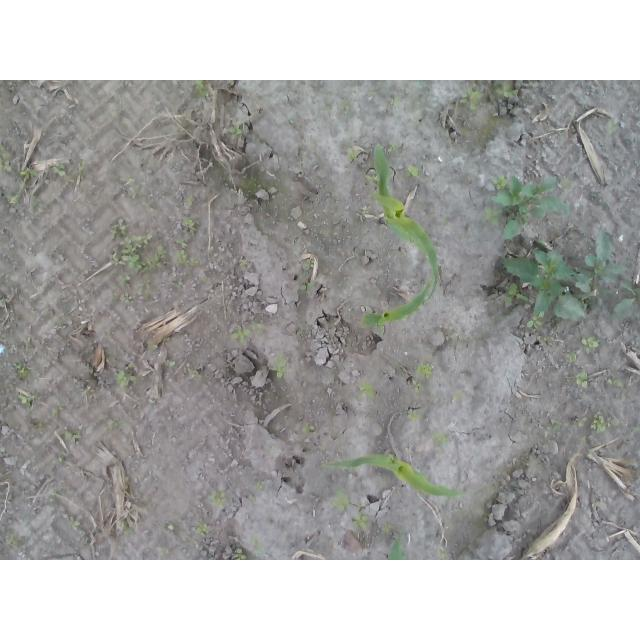Maize: (373, 143, 440, 301), (319, 452, 466, 496), (361, 281, 432, 330), (387, 528, 409, 560)
Weeds: (500, 233, 640, 330), (484, 173, 569, 240), (111, 222, 168, 273), (233, 320, 264, 344), (460, 84, 483, 113), (175, 248, 205, 267), (591, 412, 616, 433), (330, 489, 352, 512), (494, 80, 518, 98), (0, 144, 14, 173), (273, 353, 288, 380), (114, 370, 137, 387), (580, 335, 601, 353), (181, 216, 203, 233), (207, 489, 226, 508), (415, 359, 433, 378), (404, 160, 424, 177), (432, 431, 449, 449), (15, 361, 31, 380), (192, 80, 209, 97), (354, 513, 371, 530), (359, 384, 375, 401), (605, 117, 619, 135), (252, 537, 265, 556), (576, 368, 588, 388), (231, 548, 249, 561), (118, 521, 134, 535), (411, 378, 425, 394), (17, 393, 32, 407), (64, 430, 81, 442), (5, 535, 23, 546), (67, 515, 81, 529), (120, 272, 131, 289), (51, 164, 66, 176), (607, 377, 625, 387), (19, 168, 38, 177), (340, 97, 351, 112), (112, 418, 127, 429), (228, 127, 244, 137), (347, 144, 357, 160), (4, 194, 18, 205), (437, 546, 448, 560), (51, 405, 63, 417), (195, 521, 207, 533), (363, 173, 377, 183), (407, 409, 418, 421), (575, 416, 586, 428), (120, 293, 132, 304), (156, 547, 168, 558), (381, 522, 391, 535), (304, 259, 315, 270), (303, 423, 315, 433), (565, 352, 575, 364), (415, 80, 427, 89), (59, 450, 66, 465), (551, 424, 561, 433), (186, 195, 194, 206), (392, 96, 401, 105), (387, 144, 397, 152), (240, 259, 248, 269), (303, 283, 313, 290), (256, 480, 264, 488), (288, 120, 295, 129), (175, 239, 185, 245), (56, 319, 64, 326), (543, 335, 550, 342), (361, 207, 367, 214)
